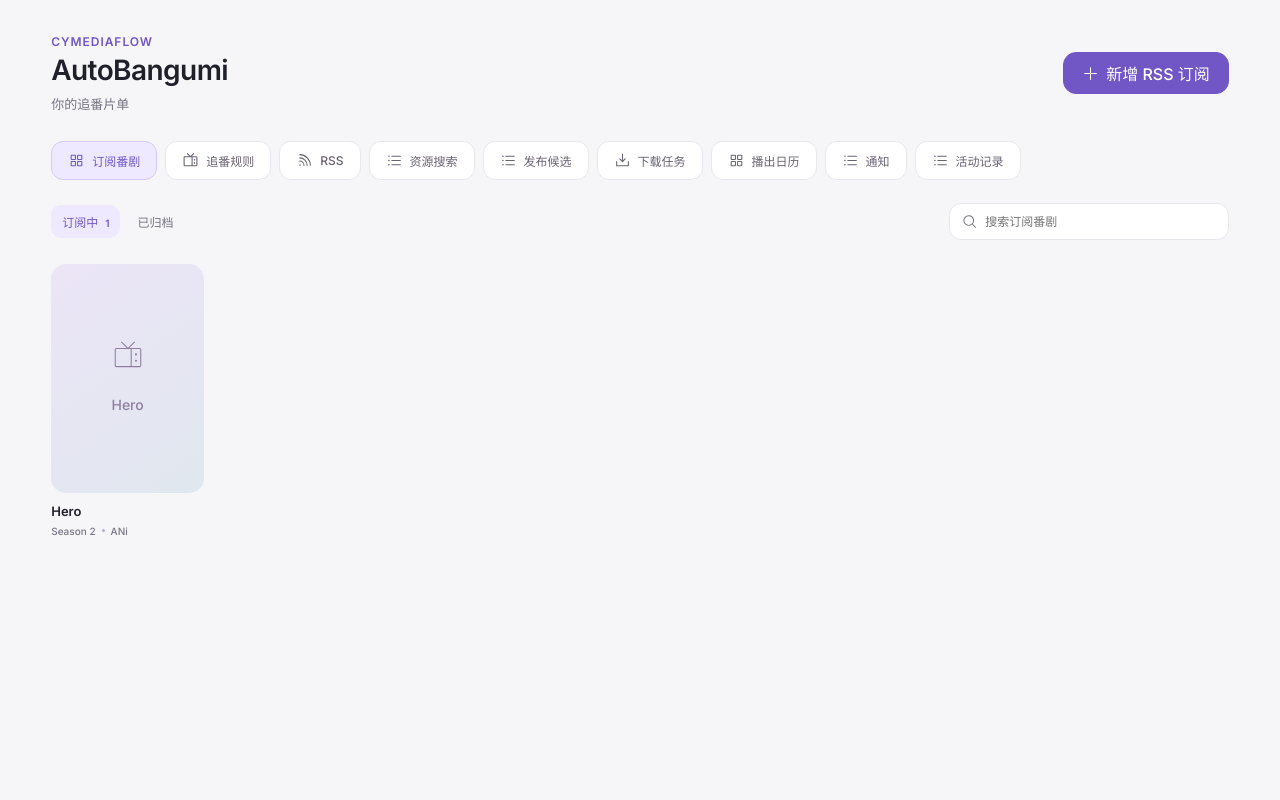
AutomationPage › opens the shelf first and shares a cancel-safe editor with the rules tab
Click the button with aria-label "编辑 Hero 第 2 季".
click(128, 400)  # box [51,264,204,537]
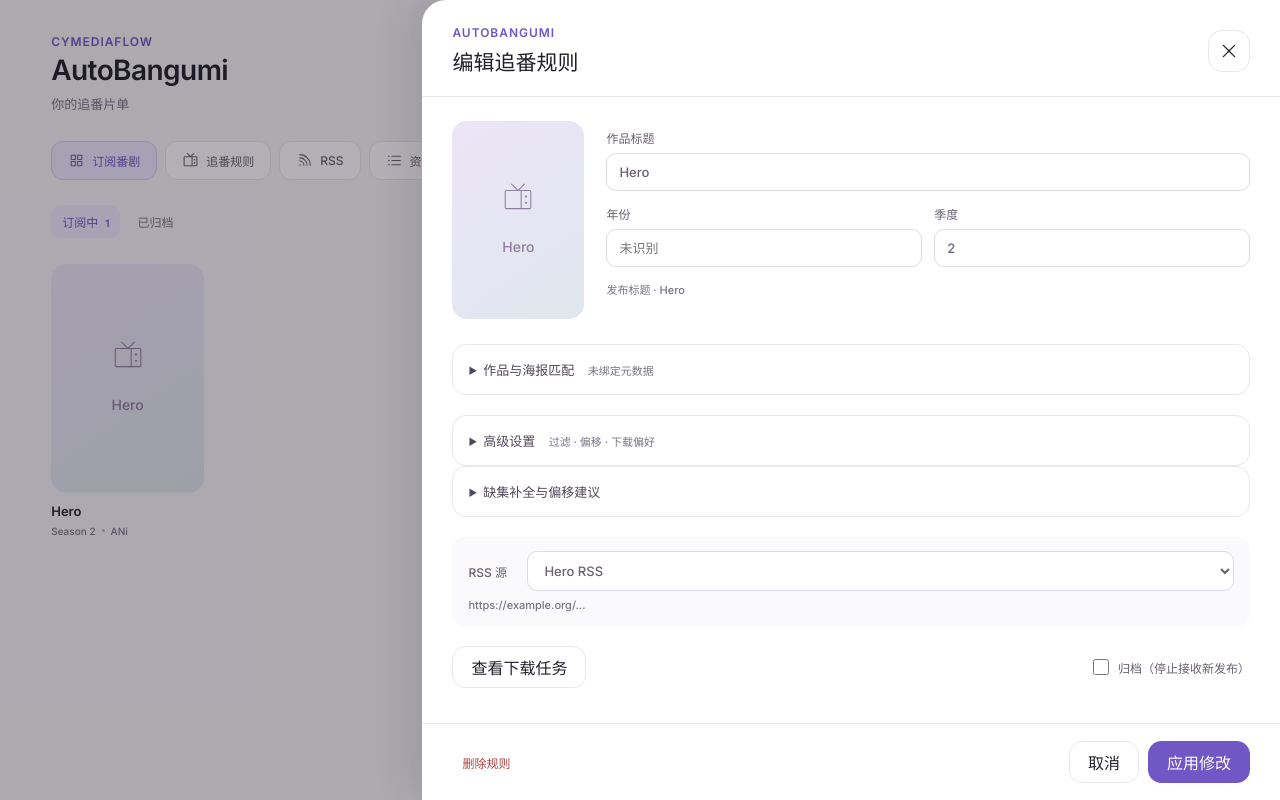
Replace the text in the field labelled "作品标题" with "Not saved" at [928, 172], box [606,153,1250,191]
Click the button "取消".
click(1104, 762)  # box [1069,741,1139,783]
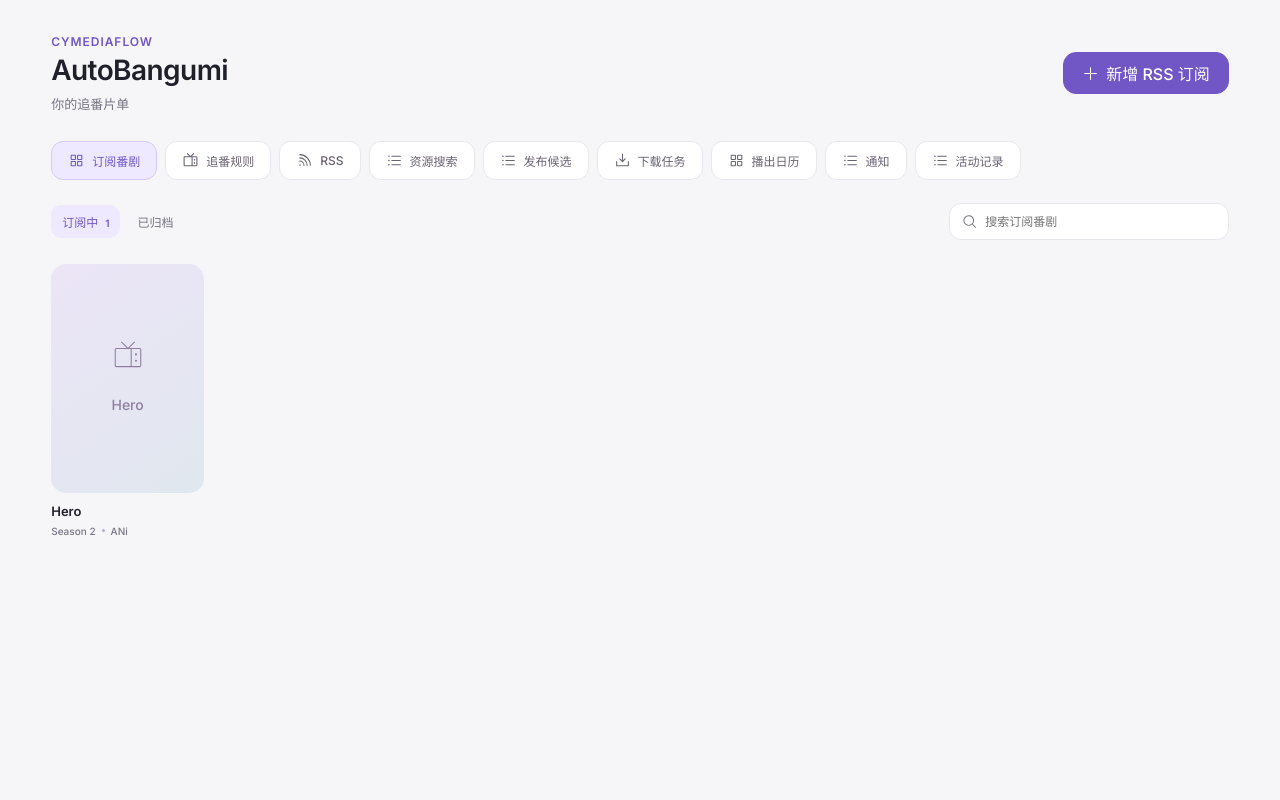
Check: the dialog is gone
Click the tab "追番规则".
click(218, 160)  # box [165,141,271,180]
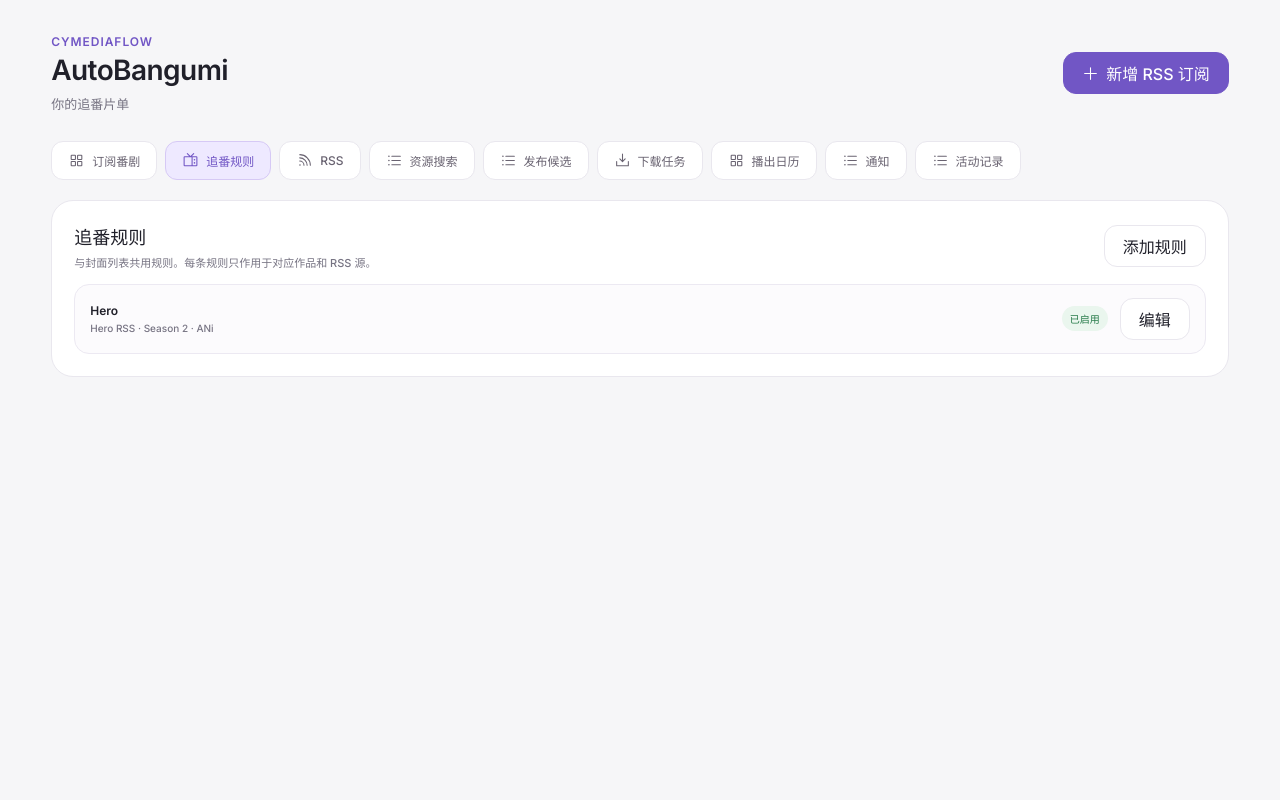
Click the button "编辑".
click(1155, 319)  # box [1120,298,1190,340]
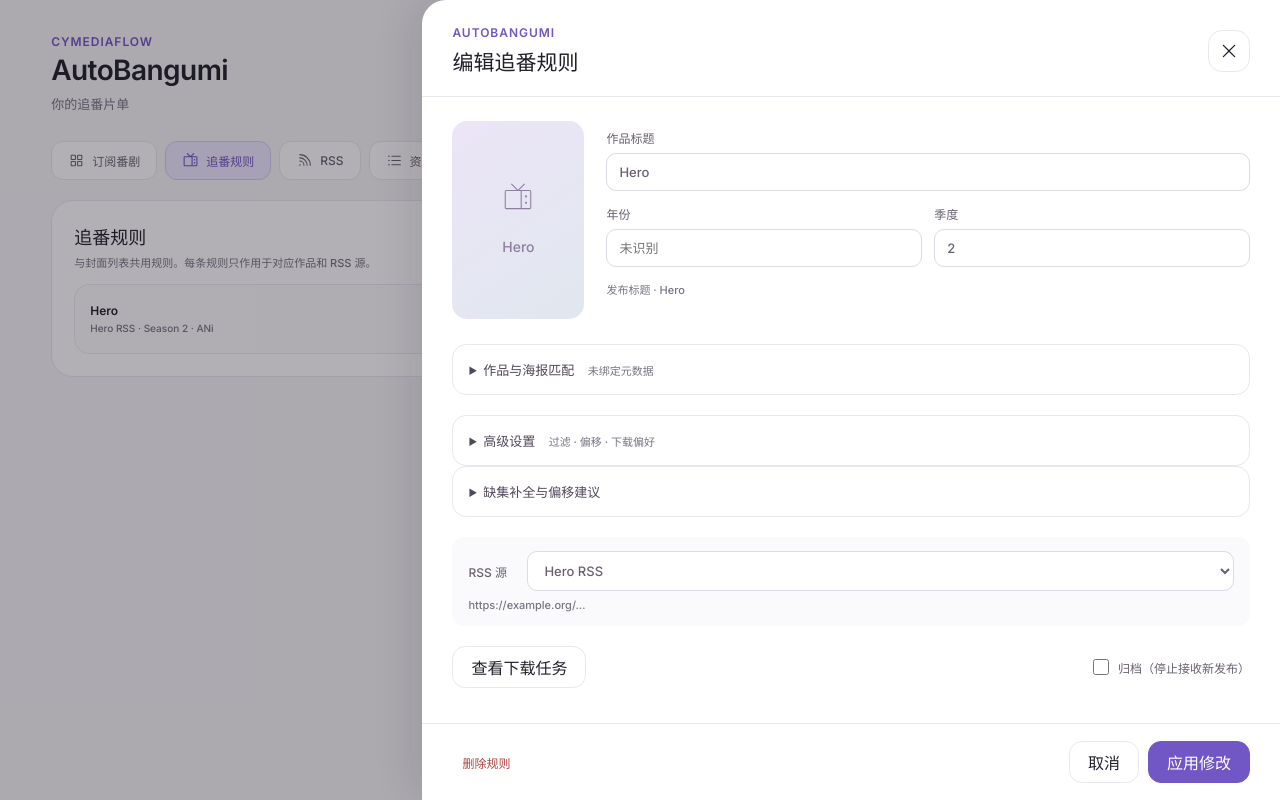
Check: the field labelled "作品标题" holds "Hero", box [606,153,1250,191]
Click the heading "高级设置 过滤 · 偏移 · 下载偏好".
click(569, 441)  # box [483,433,655,449]
(page scrolled)
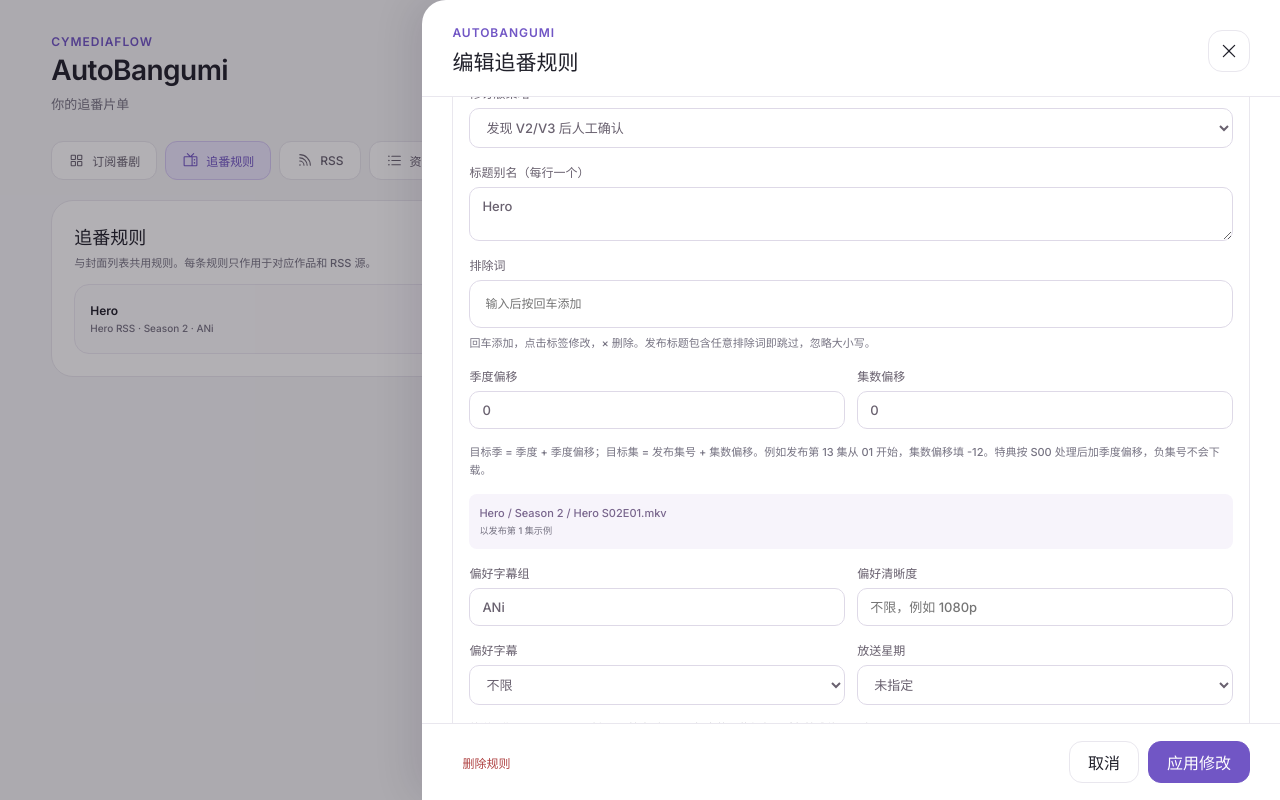
Replace the text in the number field labelled "集数偏移" with "-12" at [1045, 410], box [857,391,1233,429]
Click the button "应用修改".
click(1199, 762)  # box [1148,741,1250,783]
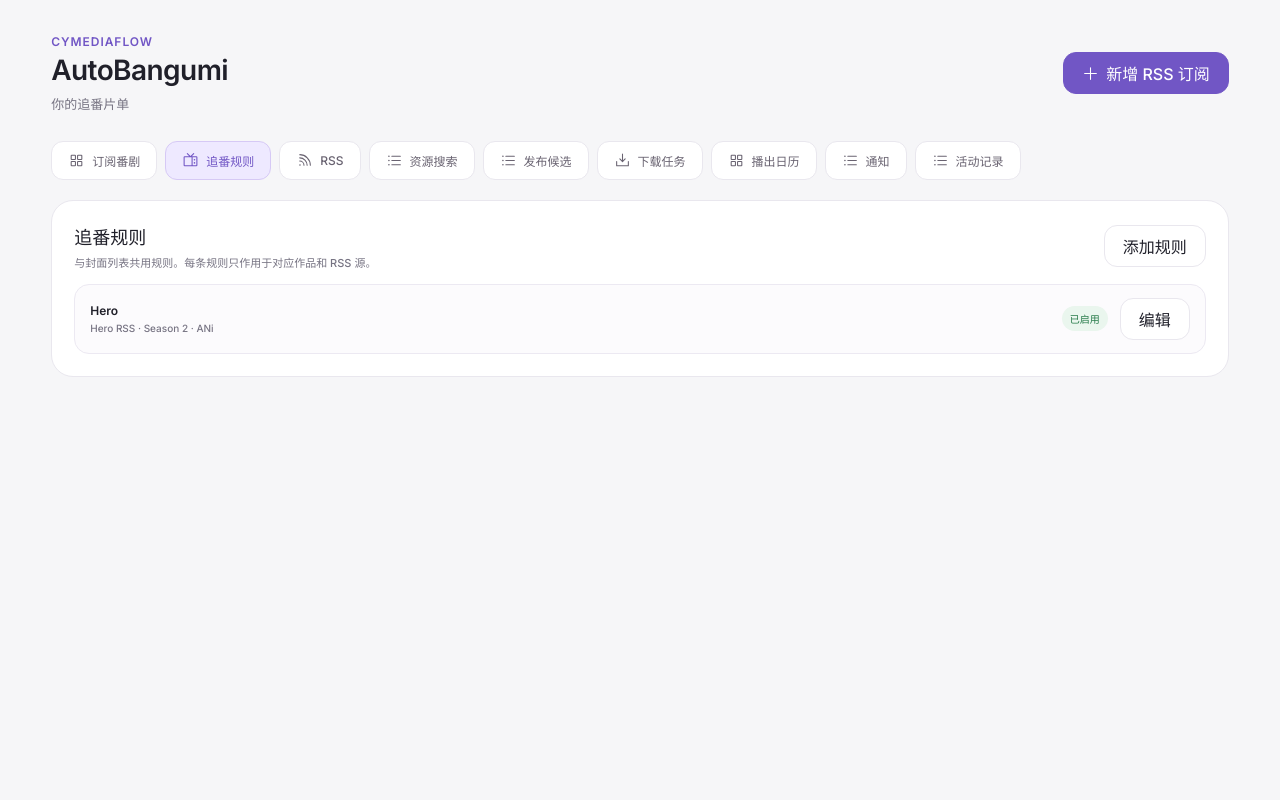
Check: the dialog is gone
